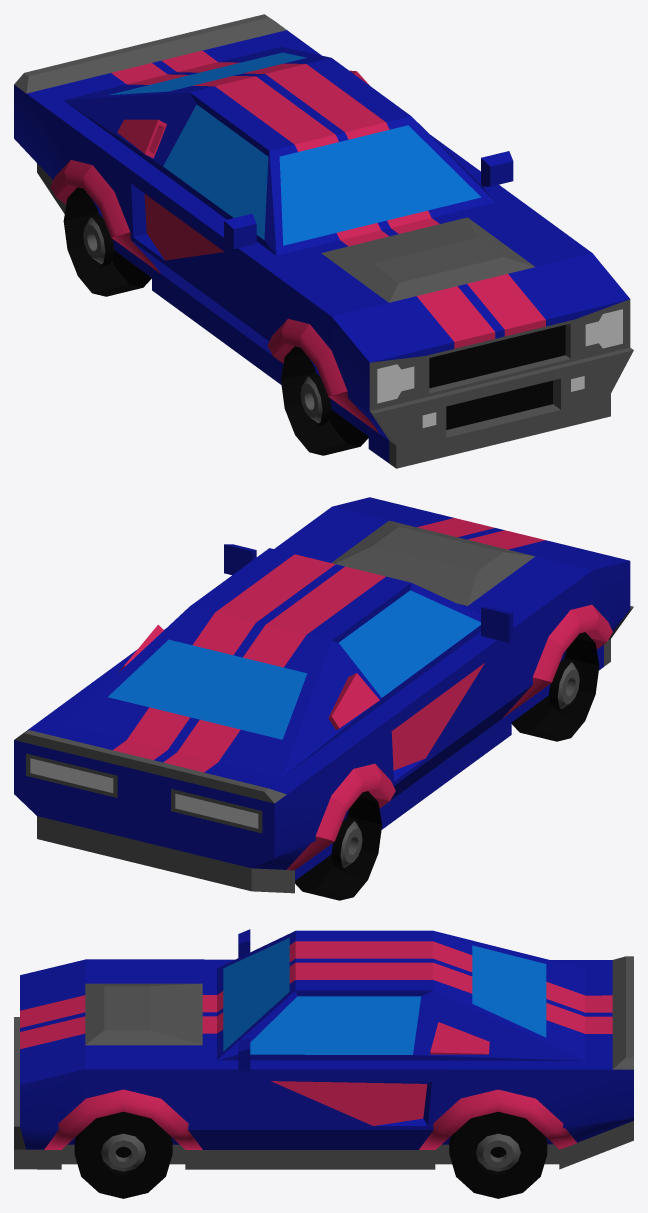
Rendered from Vehicle_05.obj.
3 renders of one model, top to bottom at view 1: azimuth 30°, elevation 25°; view 2: azimuth 150°, elevation 25°; view 3: azimuth 270°, elevation 25°, orthographic. The views are drawn at different scales.
Visible parts, largest first — view 1: Veh_05_SR_Veh_MuscleCar_Black; view 2: Veh_05_SR_Veh_MuscleCar_Black; view 3: Veh_05_SR_Veh_MuscleCar_Black.
Part boxes in pixels (bbox=[...]): Veh_05_SR_Veh_MuscleCar_Black: bbox=[14, 14, 633, 468]; Veh_05_SR_Veh_MuscleCar_Black: bbox=[14, 497, 633, 900]; Veh_05_SR_Veh_MuscleCar_Black: bbox=[14, 929, 633, 1198].
Size of the model in its own units: 0.2684 by 0.1923 by 0.5856.
